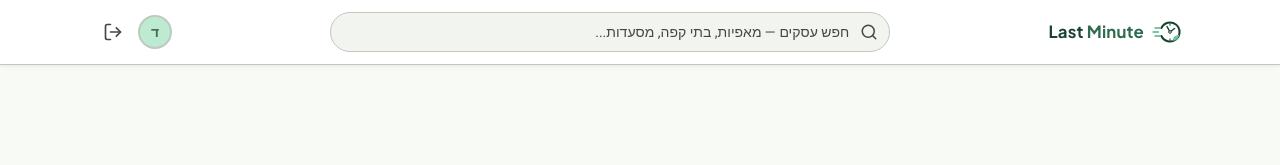
Test: NavbarB2C — search autocomplete › shows matching business suggestions as the user types
The width and height of the screenshot is (1280, 165).
In the search field with placeholder "חפש עסקים — מאפיות, בתי קפה, מסעדות...": coordinates (610, 32) x1=330 y1=12 x2=890 y2=52, type "ארומה"
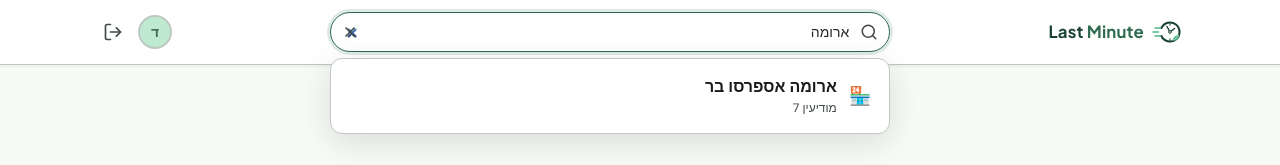
Now the button "🏪 ארומה אספרסו בר מודיעין 7" is shown, box x1=337 y1=65 x2=883 y2=127
